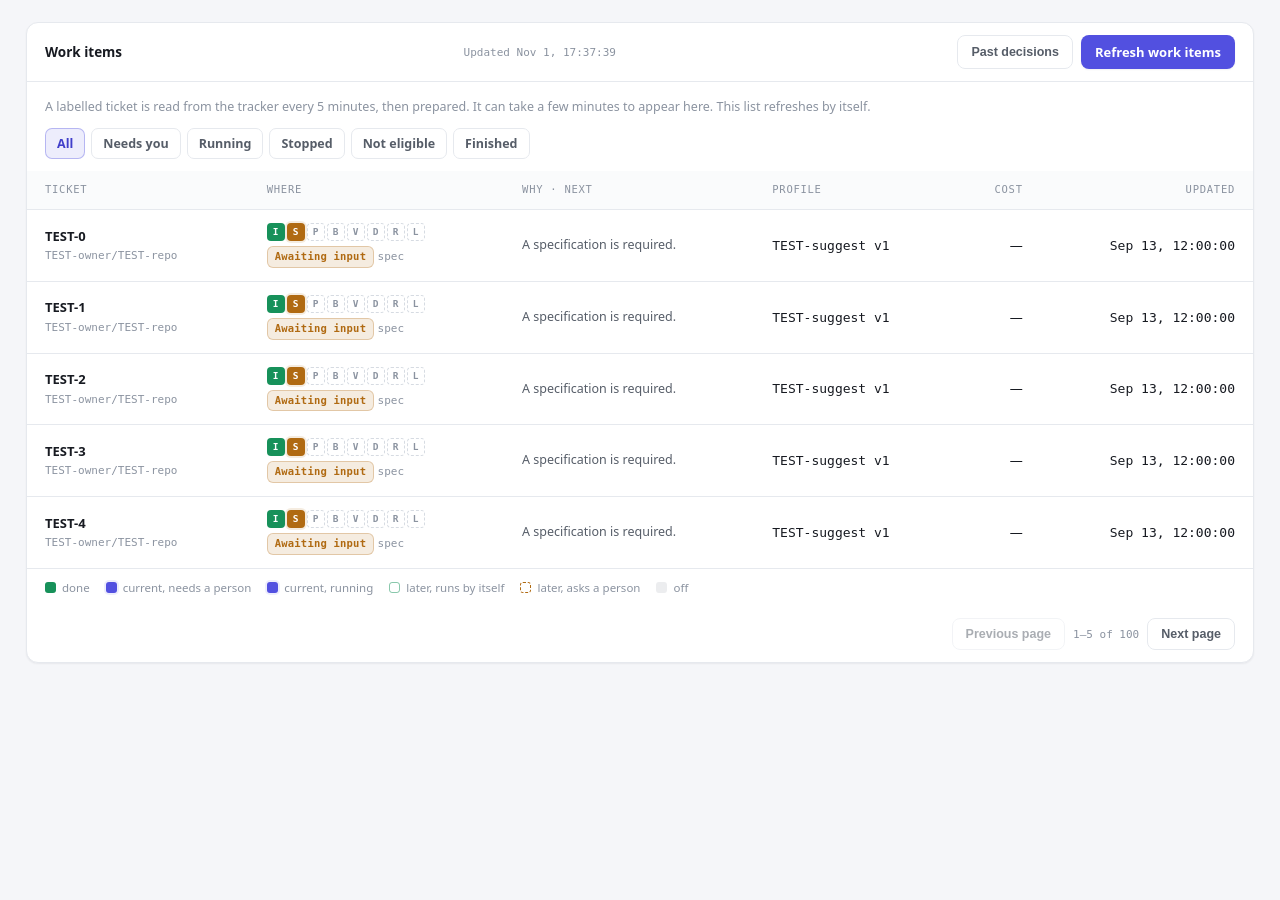
Scenario: keeps the tracker read limit across page turns
Expected: the link "TEST-0" is shown, [45,226,86,244]
Click the button "Next page": click(1191, 634) [1147,618,1235,650]
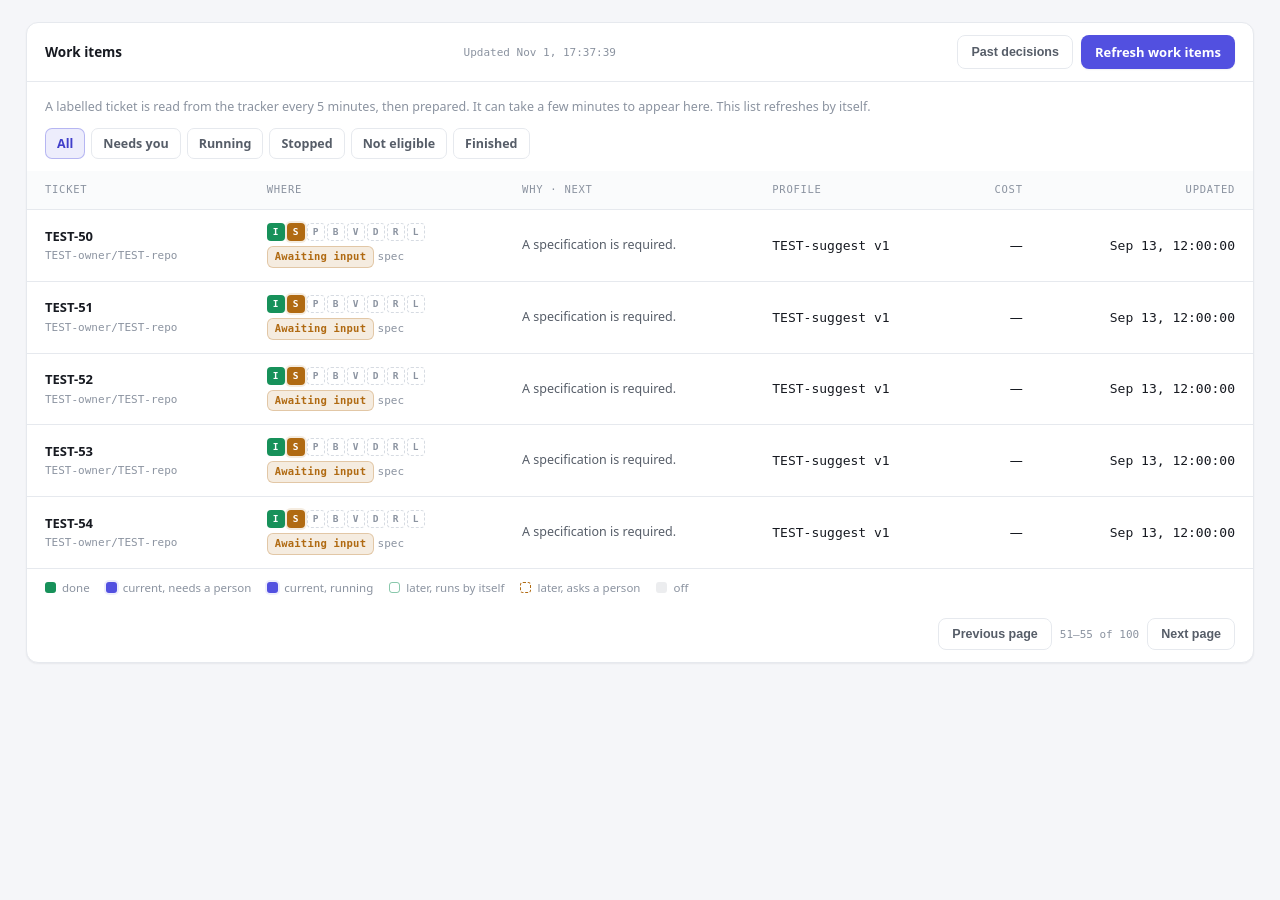
Result: the link "TEST-50" is shown at [45,226,93,244]
